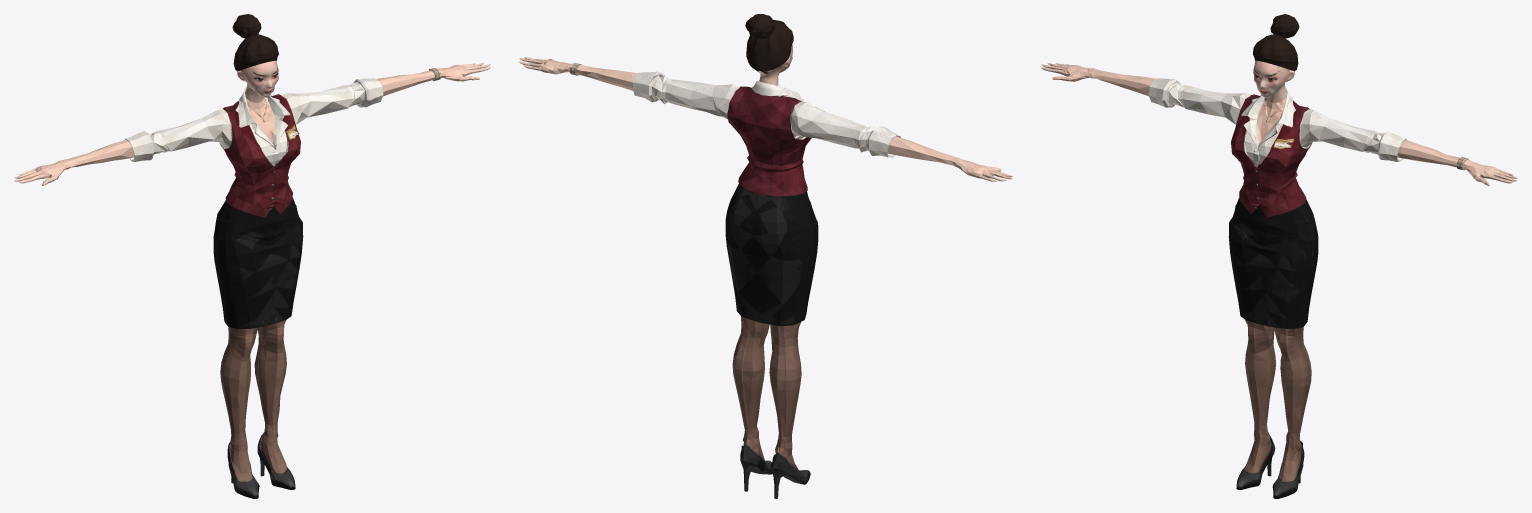
The model's file is Cashier_TPose_1.fbx.
3 views of the same model, side by side, from view 1: azimuth 30°, elevation 25°; view 2: azimuth 150°, elevation 25°; view 3: azimuth 330°, elevation 25° (orthographic). The views are drawn at different scales.
Visible parts, largest first — view 1: Cashier_TPose; view 2: Cashier_TPose; view 3: Cashier_TPose.
Part boxes in pixels (box(x1,y1,x2,y2)): Cashier_TPose: box(14, 14, 490, 498); Cashier_TPose: box(519, 14, 1012, 498); Cashier_TPose: box(1041, 14, 1517, 498).
Size of the model in its own units: 184 by 171 by 25.01.
Materials: 1 (1 with a texture image).
